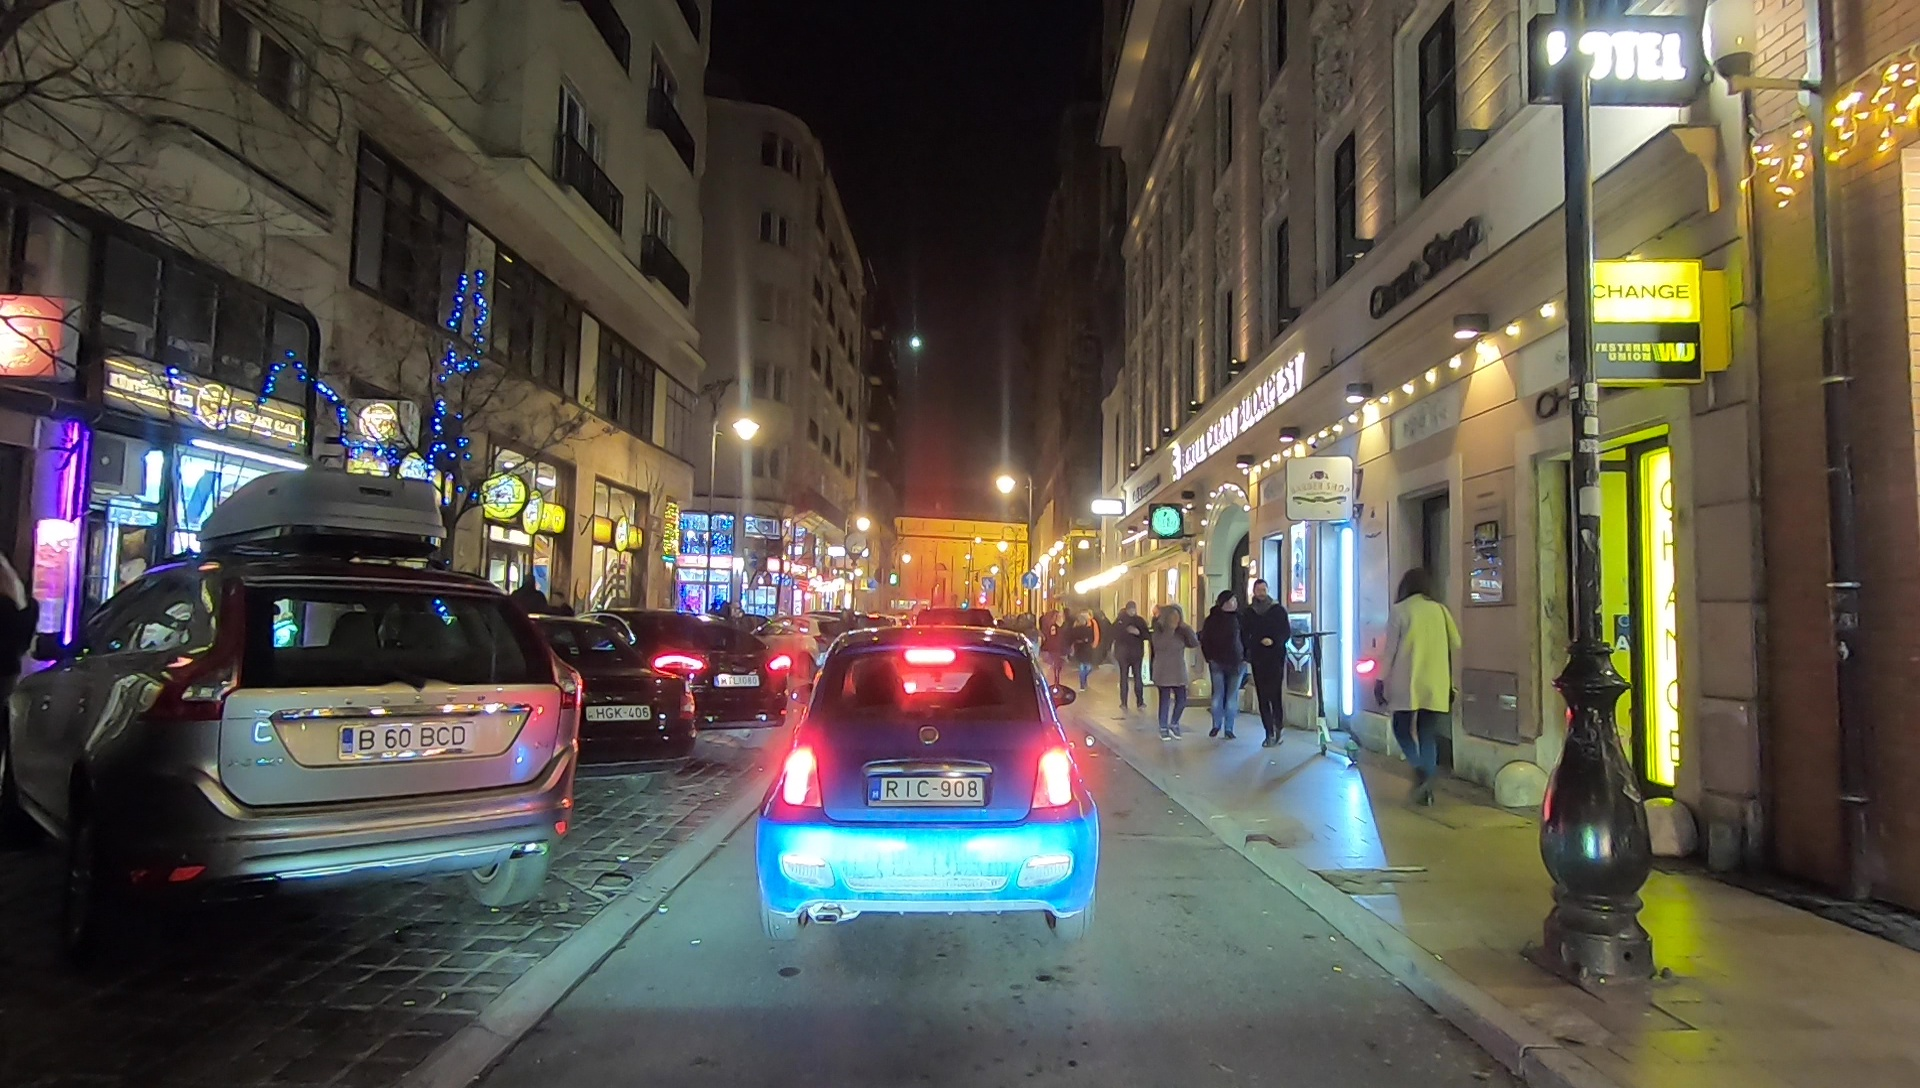person: (1373, 567, 1461, 808), (1243, 578, 1294, 750), (1200, 586, 1248, 740), (1155, 602, 1193, 742), (1112, 601, 1151, 714), (512, 572, 549, 668), (1071, 609, 1098, 692), (1048, 612, 1070, 686)
